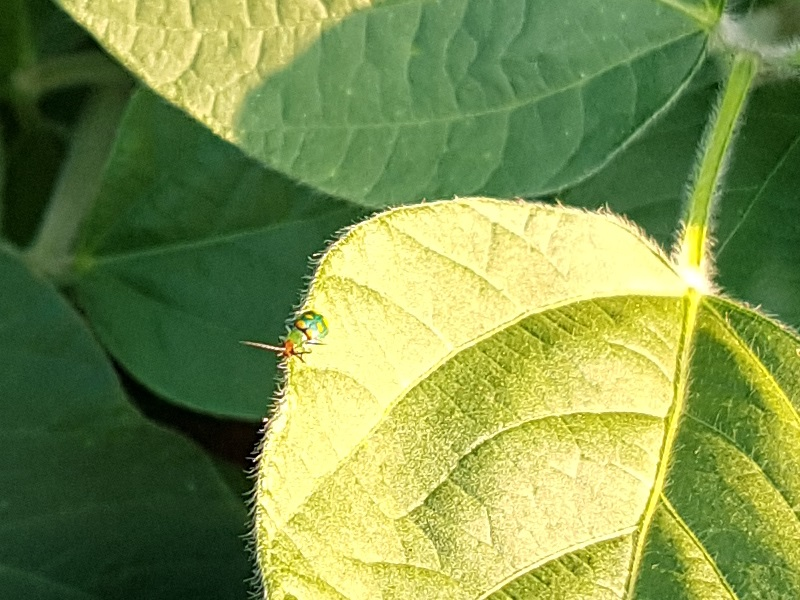Diabrotica_speciosa: (242, 294, 341, 382)
